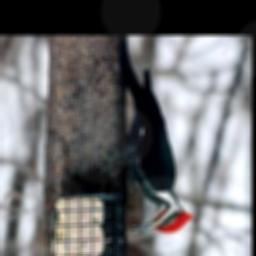Woodpecker: (97, 41, 192, 238)
